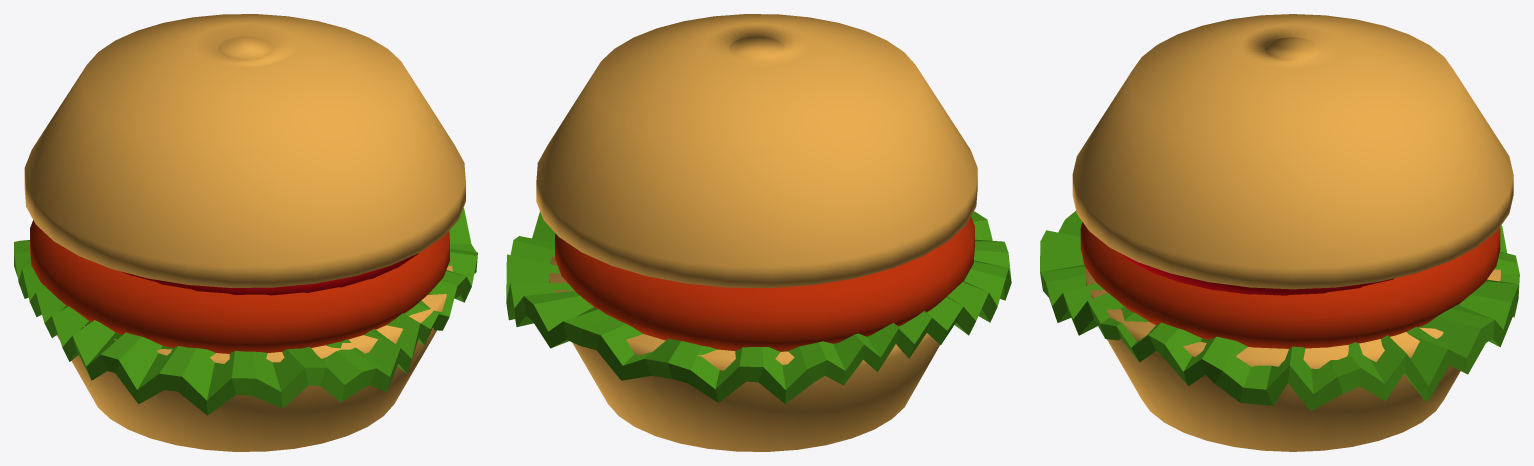
File: Burger.glb
3 views of the same model, side by side, from view 1: azimuth 30°, elevation 25°; view 2: azimuth 150°, elevation 25°; view 3: azimuth 270°, elevation 25° (orthographic).
Visible parts, largest first — view 1: Cylinder.005; view 2: Cylinder.005; view 3: Cylinder.005.
Part boxes in pixels (x1,y1,x2,y2): Cylinder.005: [14, 14, 477, 451]; Cylinder.005: [506, 14, 1011, 451]; Cylinder.005: [1040, 14, 1519, 451].
Size of the model in its own units: 1.27 by 1.02 by 1.26.
